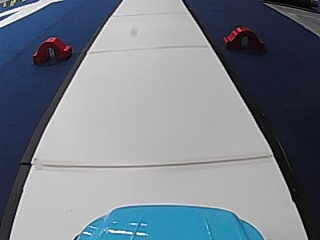bridge: (31, 33, 72, 64), (221, 23, 265, 51)
